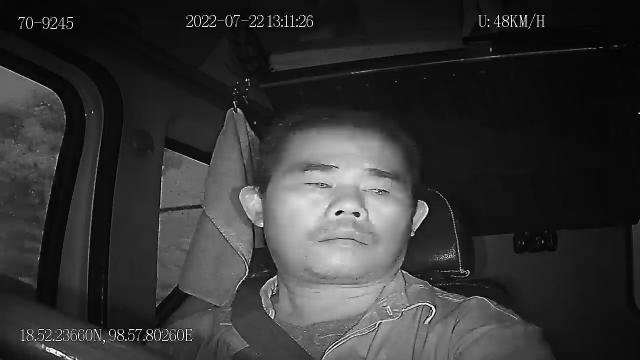SafeDriving: (286, 166, 343, 196), (356, 174, 400, 205)
Seatbelt: (228, 274, 318, 360)
